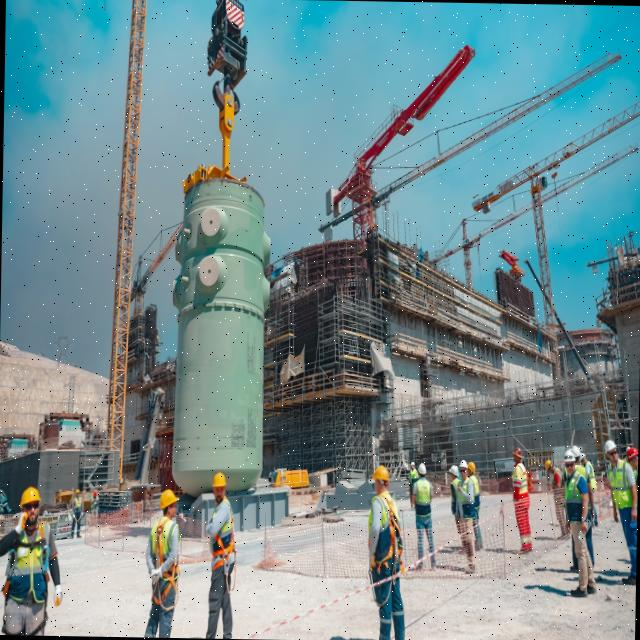Helmet: (21, 489, 43, 513), (158, 490, 180, 512), (372, 466, 391, 487), (604, 441, 619, 467), (211, 475, 228, 495), (564, 451, 577, 477), (628, 448, 639, 469), (512, 448, 524, 464), (460, 461, 470, 480), (418, 464, 428, 481), (572, 446, 581, 464), (546, 460, 556, 475), (450, 466, 459, 481), (580, 454, 589, 467), (468, 463, 477, 476), (410, 462, 416, 471), (77, 490, 81, 499), (95, 492, 99, 500)
Jacket: (12, 522, 49, 607), (152, 520, 180, 600), (370, 500, 400, 573), (211, 506, 234, 573), (610, 463, 631, 515), (564, 472, 585, 521), (414, 481, 433, 527), (459, 481, 475, 524)
